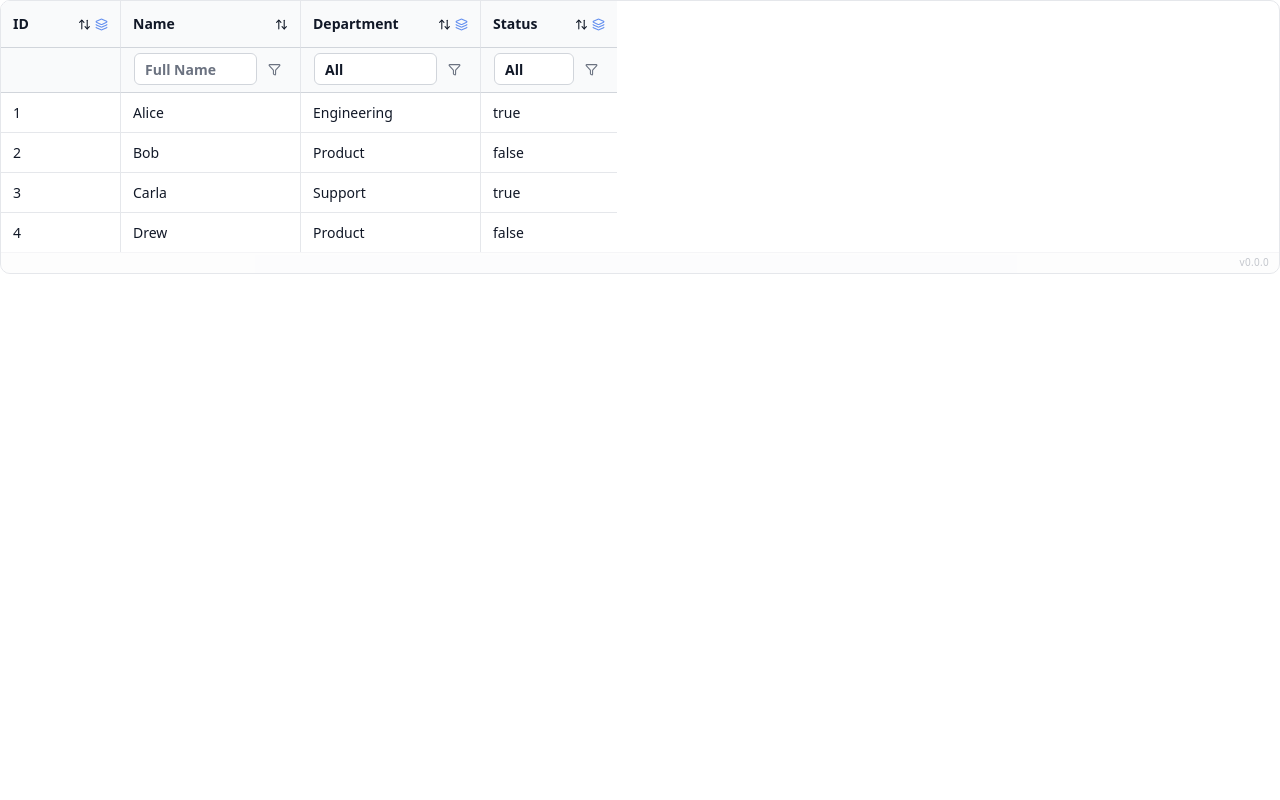
Test: DataTable - column filters › clear button resets a text filter
Type "Alice" into the field named "Filter Full Name" at (196, 69), box [134,53,257,85]
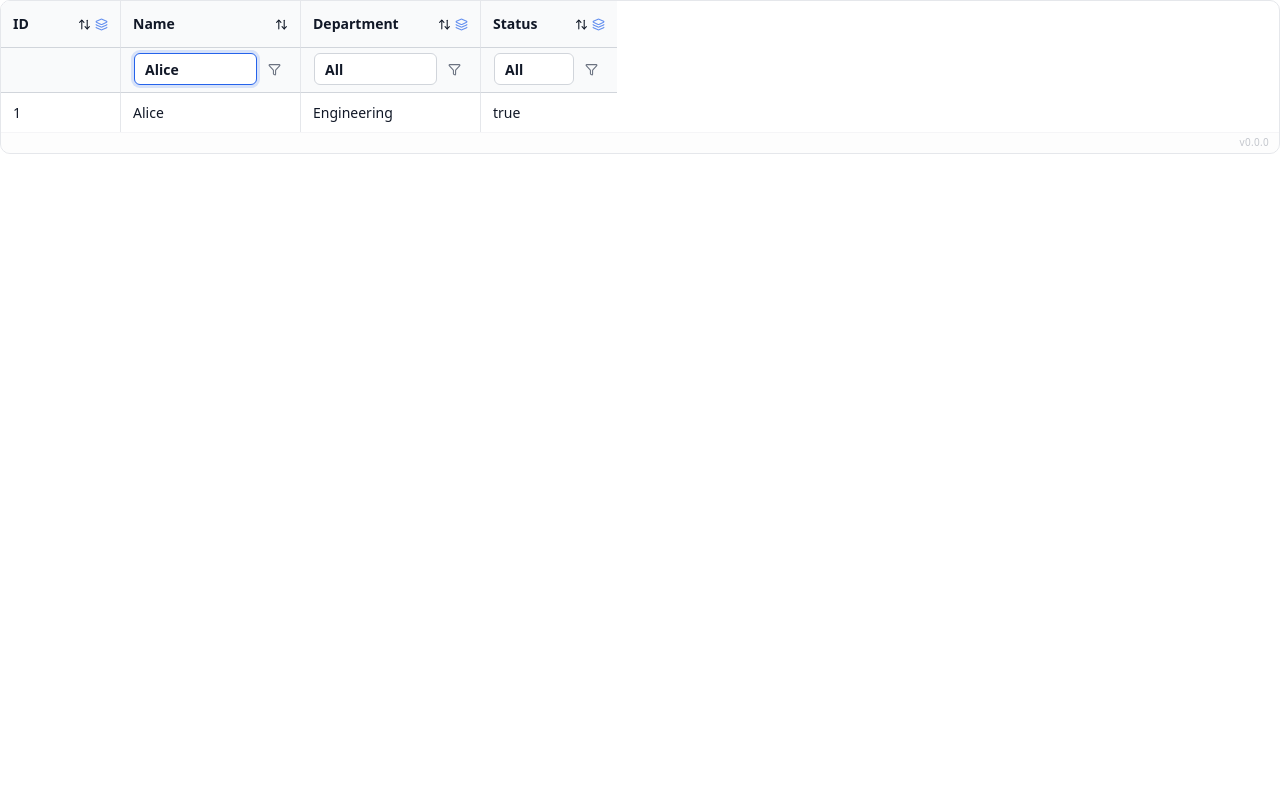
Click the button named "Open Full Name filter values" at (274, 69), box [261,53,287,85]
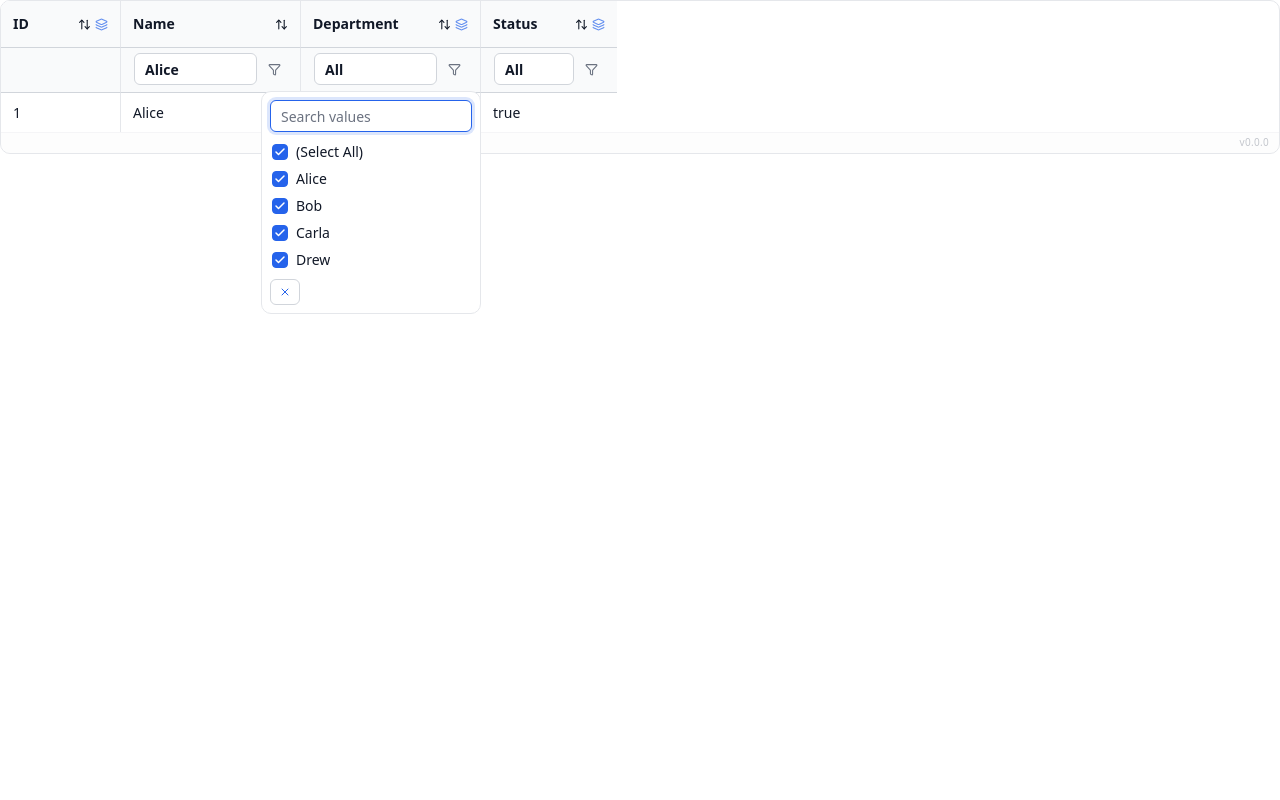
Click the button named "Clear Full Name filter" at (285, 292), box [270,279,300,305]
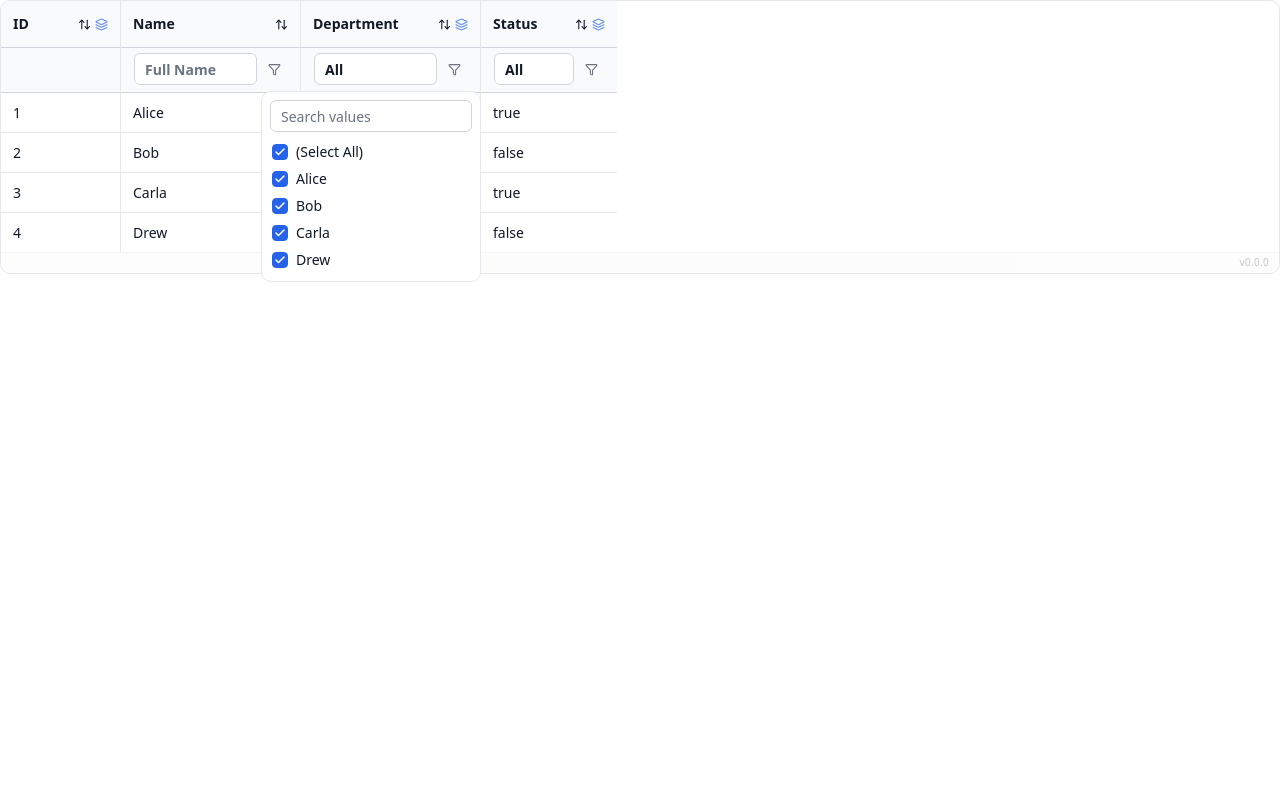
Expected: the text "Alice" is shown, [121,93,301,133]
Expected: the text "Bob" is shown, [121,133,301,173]
